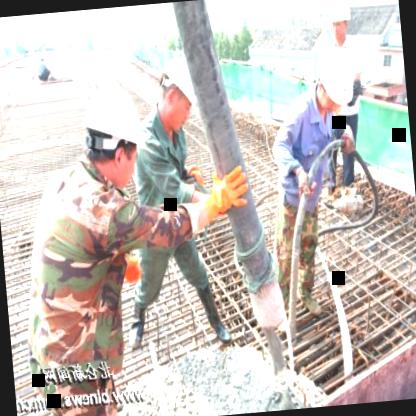helmet: (74, 76, 154, 198), (154, 49, 205, 137), (310, 40, 362, 114), (324, 0, 355, 46)
